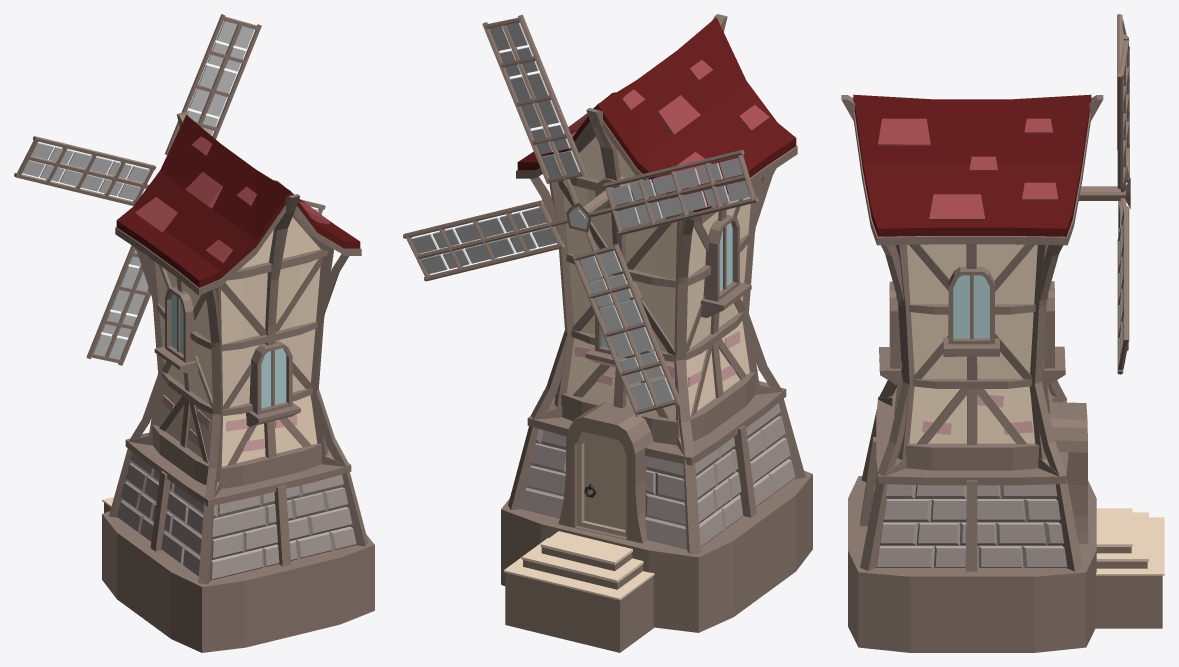
File: windmill01.fbx
3 renders of one model, left to right at view 1: azimuth 30°, elevation 25°; view 2: azimuth 150°, elevation 25°; view 3: azimuth 270°, elevation 25°, orthographic. The views are drawn at different scales.
Parts seen in each view (by area): view 1: Windmill_Base01, Windmill_Roof01, Windmill_Structure01, Windmill_Blades01, Windmill_Supports02, Windmill_Frame01, Window01.002, Windmill_Frame02, Window01, Windmill_Supports01, Windmill_Bricks01, Plane.2606; view 2: Windmill_Base01, Windmill_Blades01, Windmill_Roof01, Windmill_Stairs01, Windmill_Structure01, Door01, Windmill_Supports02, Windmill_Frame01, Window01, Windmill_Frame02, Windmill_Supports01, Window01.001 (+1 smaller); view 3: Windmill_Base01, Windmill_Roof01, Windmill_Structure01, Windmill_Stairs01, Windmill_Supports02, Windmill_Blades01, Window01.003, Door01, Windmill_Frame01, Windmill_Frame02, Window01.002, Window01.001 (+2 smaller).
Boxes of the visible parts, x1,y1,x2,y2 form: Windmill_Base01: [102, 425, 374, 652]; Windmill_Roof01: [115, 115, 361, 295]; Windmill_Structure01: [155, 217, 320, 466]; Windmill_Blades01: [14, 14, 325, 365]; Windmill_Supports02: [128, 247, 349, 498]; Windmill_Frame01: [157, 257, 322, 409]; Window01.002: [246, 340, 300, 426]; Windmill_Frame02: [159, 371, 312, 465]; Window01: [154, 287, 199, 376]; Windmill_Supports01: [176, 112, 299, 458]; Windmill_Bricks01: [162, 395, 297, 451]; Plane.2606: [228, 249, 328, 280]; Windmill_Base01: [501, 369, 812, 632]; Windmill_Blades01: [403, 14, 758, 416]; Windmill_Roof01: [516, 17, 797, 223]; Windmill_Stairs01: [503, 531, 654, 652]; Windmill_Structure01: [563, 137, 750, 419]; Door01: [558, 402, 653, 543]; Windmill_Supports02: [530, 168, 782, 457]; Windmill_Frame01: [558, 180, 750, 355]; Window01: [700, 214, 751, 317]; Windmill_Frame02: [571, 311, 746, 418]; Windmill_Supports01: [586, 14, 727, 408]; Window01.001: [585, 275, 643, 368]; Windmill_Base01: [848, 387, 1096, 652]; Windmill_Roof01: [853, 94, 1091, 245]; Windmill_Structure01: [907, 244, 1037, 443]; Windmill_Stairs01: [1095, 508, 1164, 628]; Windmill_Supports02: [877, 245, 1066, 476]; Windmill_Blades01: [1078, 14, 1130, 374]; Window01.003: [943, 267, 999, 356]; Door01: [1049, 402, 1088, 543]; Windmill_Frame01: [896, 244, 1048, 380]; Windmill_Frame02: [901, 361, 1043, 444]; Window01.002: [879, 281, 902, 386]; Window01.001: [1042, 281, 1065, 386].
Size of the model in its own units: 2159 by 3465 by 1709.
